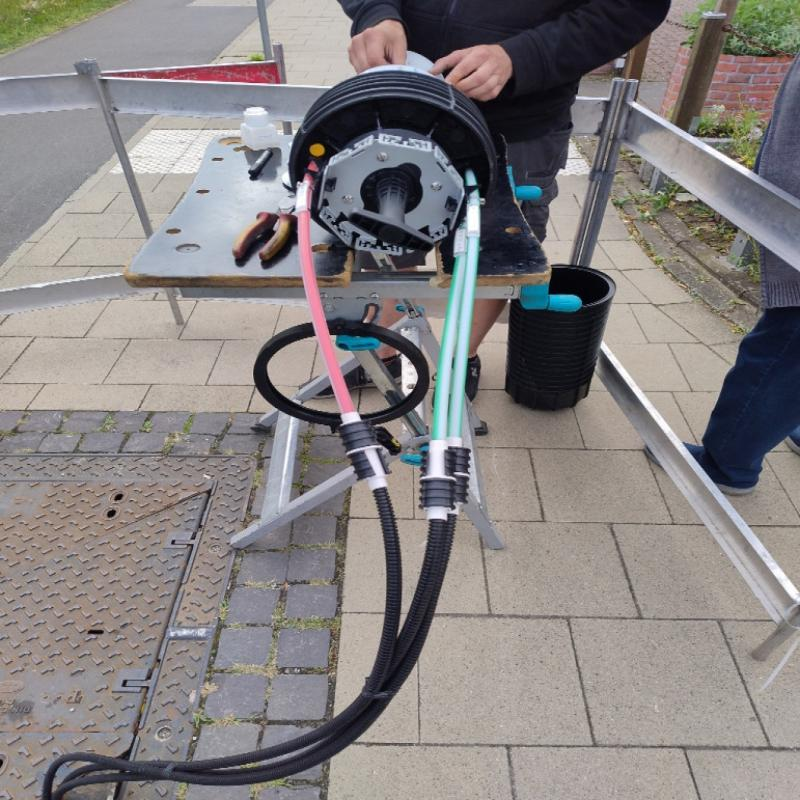NT-Muffen: (286, 70, 508, 275)
